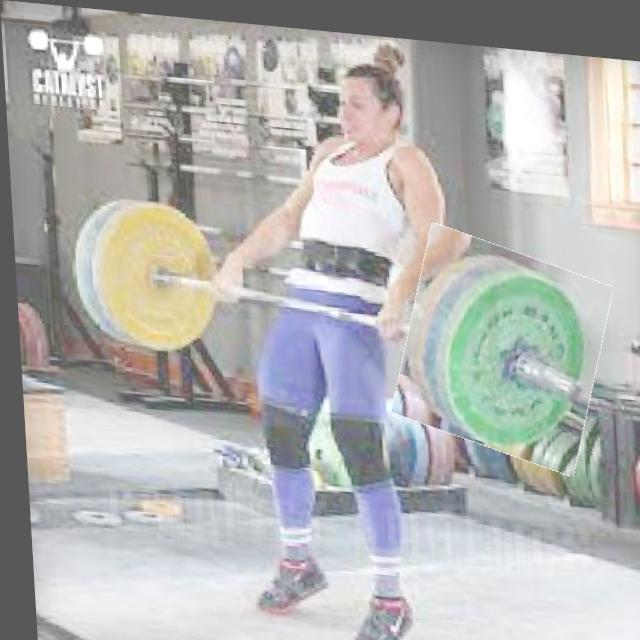barbell: (391, 222, 608, 460)
